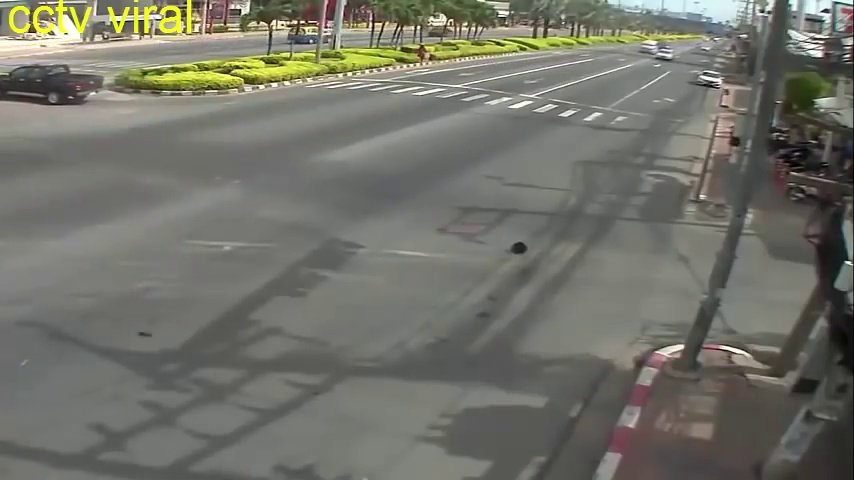car: (1, 61, 100, 111), (698, 66, 721, 91)
